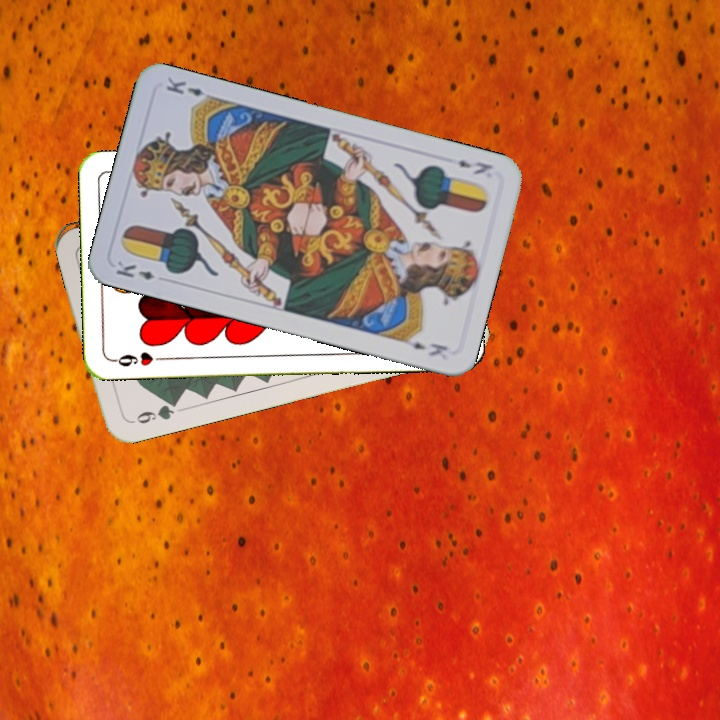EK: (112, 257, 157, 283), (454, 156, 495, 178)
G9: (124, 396, 181, 427)
H9: (108, 348, 167, 370)
